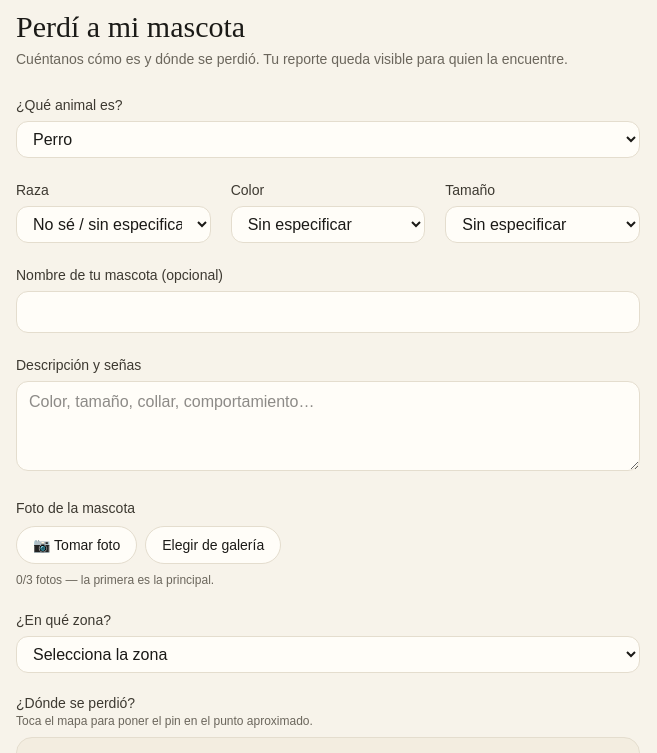
Scenario: ReportarMascota — campos condicionales › ofrece raza/color/tamaño predefinidos, y la raza desaparece con especie "otro"
Expected: the dropdown labelled "Raza" is shown, [16, 206, 211, 243]
Expected: the dropdown labelled "Color" is shown, [231, 206, 425, 243]
// Con gato: cambian las razas.
Select "Gato" in the dropdown labelled "¿Qué animal es?": x=328, y=140 [16, 121, 640, 158]
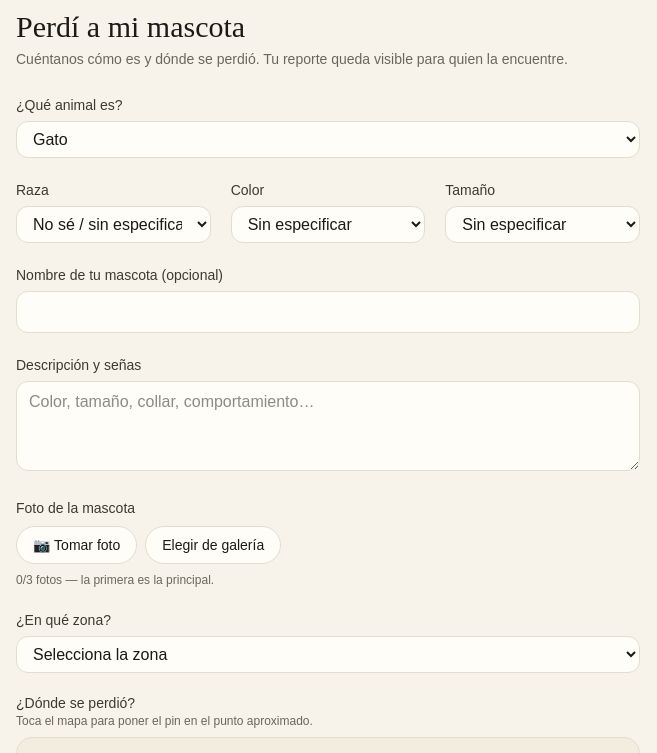
Select "Otro" in the dropdown labelled "¿Qué animal es?": x=328, y=140 [16, 121, 640, 158]
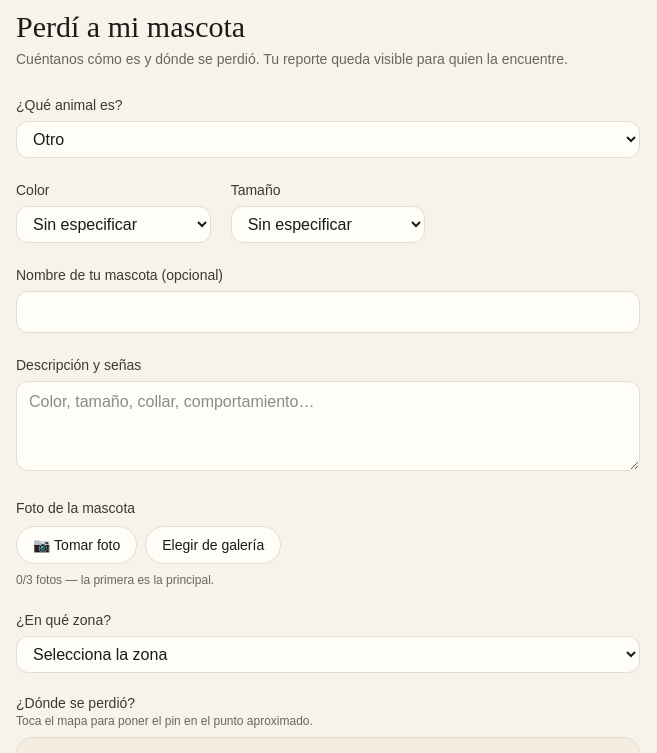
Expected: the dropdown labelled "Color" is shown, [16, 206, 211, 243]
Now the label labelled "Raza" is gone
